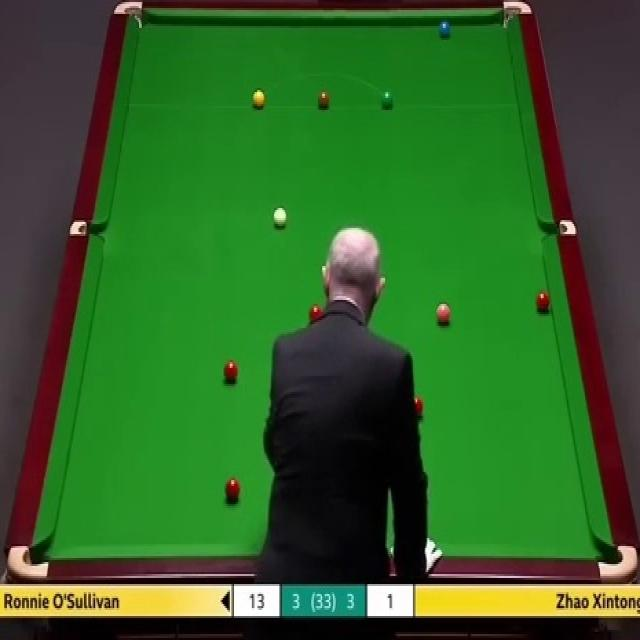pocket: (597, 542, 640, 584), (6, 543, 49, 583), (500, 0, 534, 32), (111, 0, 145, 29), (68, 221, 104, 237), (542, 220, 576, 235)
